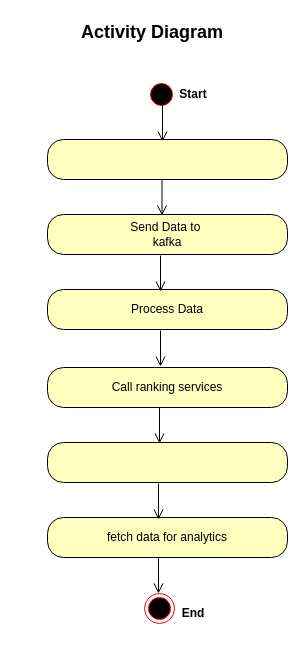
This 305x645 diagram has some shape labels left out. The shapes that lost their labels are listed below. From the top down, each one's box as (x1, y1, x2, y2) in pixels, then its label:
(46, 138, 288, 180): Extract IOC data
(46, 442, 288, 482): Store Ranked data in mysql
